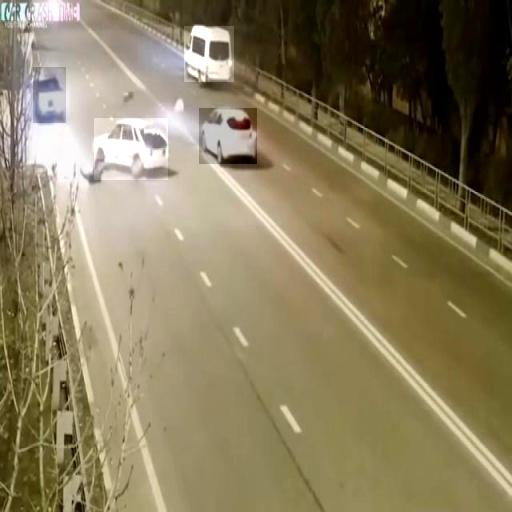小汽车: (94, 118, 168, 180), (199, 108, 257, 164), (184, 26, 234, 82), (33, 67, 66, 123)
